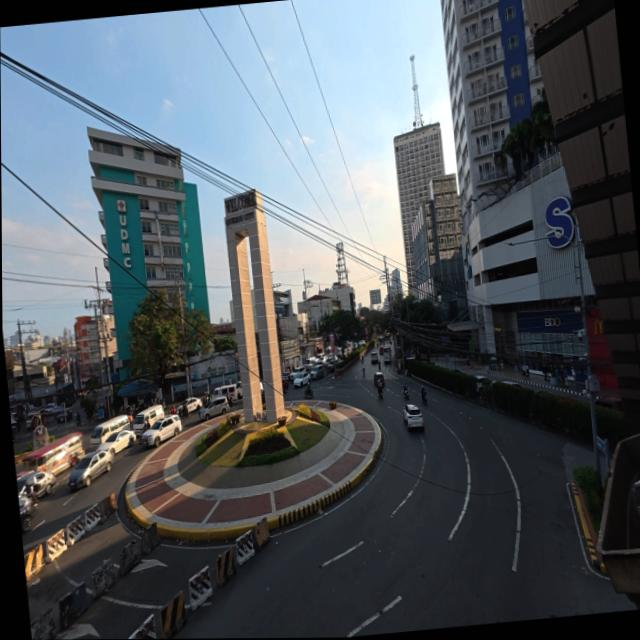Jeepneys: (17, 432, 84, 478)
car: (68, 449, 114, 490), (140, 415, 182, 446), (17, 471, 56, 497), (99, 430, 135, 454), (198, 396, 229, 420), (19, 496, 37, 533), (404, 403, 424, 430), (596, 396, 623, 410), (26, 412, 44, 430), (183, 398, 203, 413), (476, 374, 493, 391), (294, 372, 311, 388), (56, 408, 72, 423), (291, 366, 306, 381), (311, 365, 326, 380), (373, 372, 385, 386), (50, 406, 64, 417), (502, 380, 523, 387), (44, 403, 57, 414), (325, 361, 335, 372), (65, 397, 75, 407), (371, 351, 378, 364), (282, 378, 288, 392), (282, 372, 291, 381), (359, 340, 366, 345)
motorcycle: (178, 405, 188, 419), (305, 385, 313, 398), (403, 389, 410, 400), (378, 384, 383, 398), (76, 413, 81, 426), (422, 392, 427, 404), (363, 367, 365, 376)
vans: (87, 414, 132, 451), (133, 405, 164, 437), (213, 383, 241, 401)
